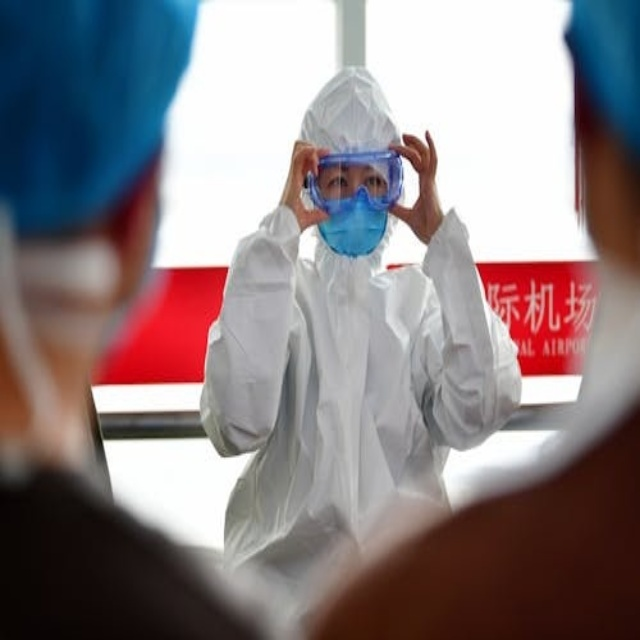Gafas: (311, 150, 402, 213)
Mascara: (324, 190, 392, 261)
Sin_guantes: (389, 129, 448, 242), (276, 138, 323, 238)
